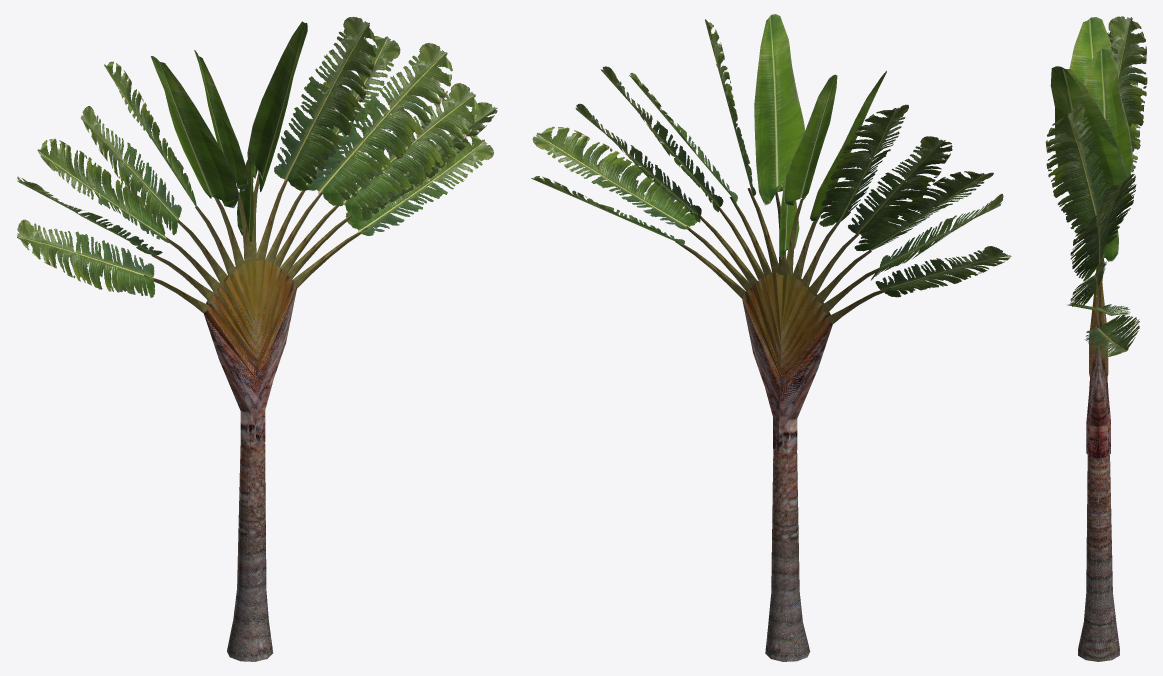
The model's file is TravelersTest101d.dae.
The picture shows the model from 3 angles, left to right: view 1: azimuth 30°, elevation 25°; view 2: azimuth 150°, elevation 25°; view 3: azimuth 270°, elevation 25°; orthographic projection. The views are drawn at different scales.
Parts seen in each view (by area): view 1: travelers411 (×11), TravelersLeaf (×4), TravelersTrunk, travelersBase_half (×2); view 2: travelers411 (×11), TravelersLeaf (×4), TravelersTrunk, travelersBase_half (×2); view 3: travelers411 (×8), TravelersLeaf (×4), TravelersTrunk, travelersBase_half (×3).
Boxes of the visible parts, bbox=[...] form: travelers411 (×11): bbox=[17, 16, 497, 297]; TravelersLeaf (×4): bbox=[151, 21, 307, 241]; TravelersTrunk: bbox=[227, 419, 273, 661]; travelersBase_half (×2): bbox=[204, 260, 296, 445]; travelers411 (×11): bbox=[531, 19, 1011, 297]; TravelersLeaf (×4): bbox=[754, 14, 886, 258]; TravelersTrunk: bbox=[765, 427, 810, 661]; travelersBase_half (×2): bbox=[742, 273, 832, 452]; travelers411 (×8): bbox=[1045, 16, 1147, 356]; TravelersLeaf (×4): bbox=[1050, 17, 1132, 261]; TravelersTrunk: bbox=[1078, 441, 1119, 661]; travelersBase_half (×3): bbox=[1086, 317, 1110, 458].
Size of the model in its own units: 176 by 34.5 by 219.
Materials: 7 (5 with a texture image).
